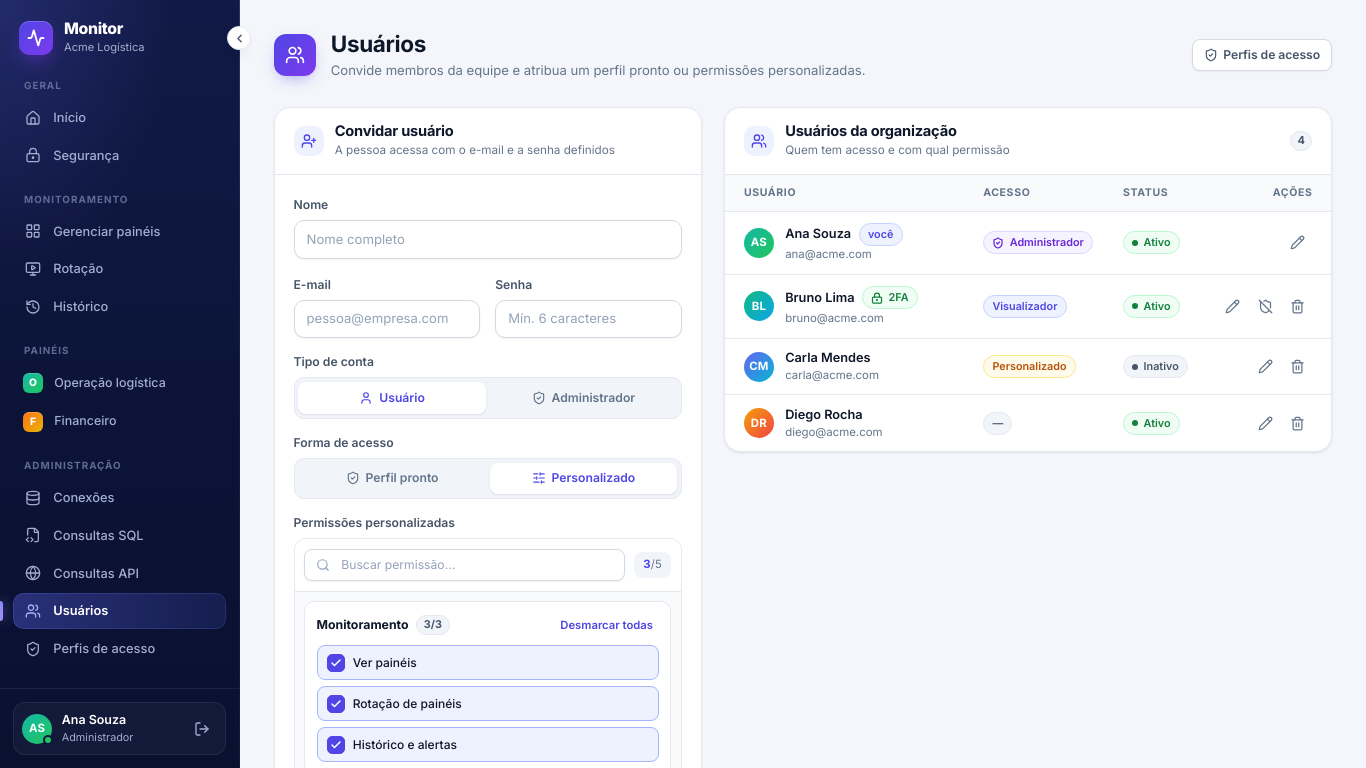
Test case: Usuários › convida administrador sem perfil nem permissões
The image size is (1366, 768).
Step 1. Type "Eva" into the field labelled "Nome" → point(488, 239), box x1=294 y1=220 x2=682 y2=258
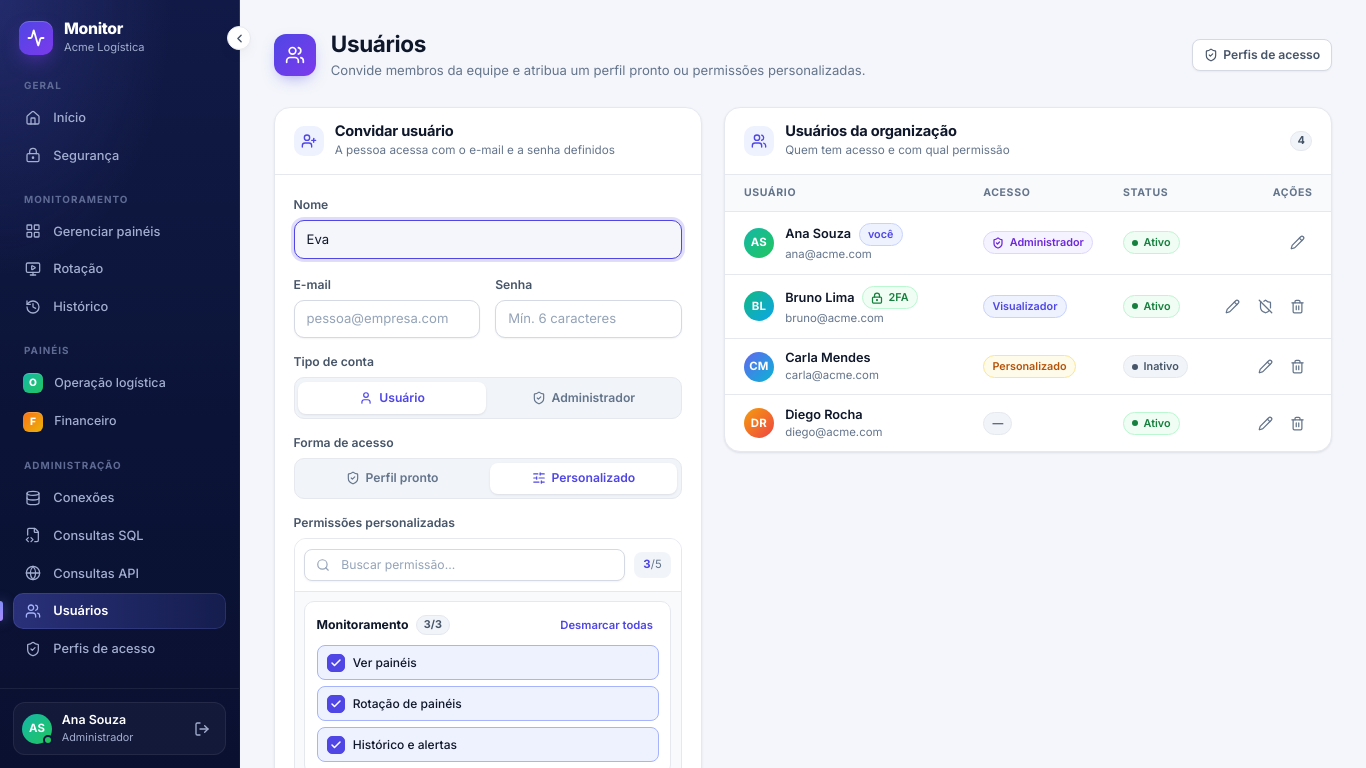
Step 2. Type "eva@acme.com" into the field labelled "E-mail" → point(387, 319), box x1=294 y1=300 x2=480 y2=338
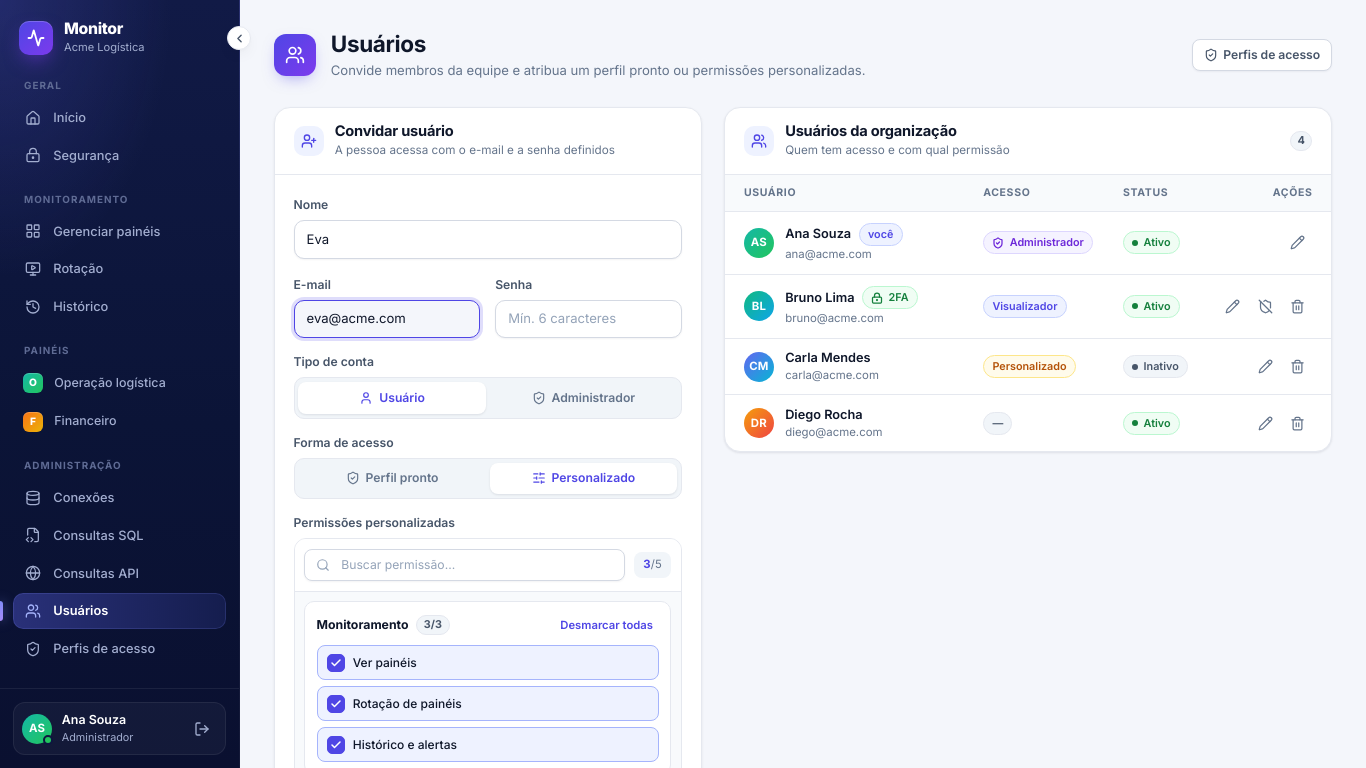
Step 3. Type "segredo1" into the password field labelled "Senha" → point(589, 319), box x1=495 y1=300 x2=682 y2=338
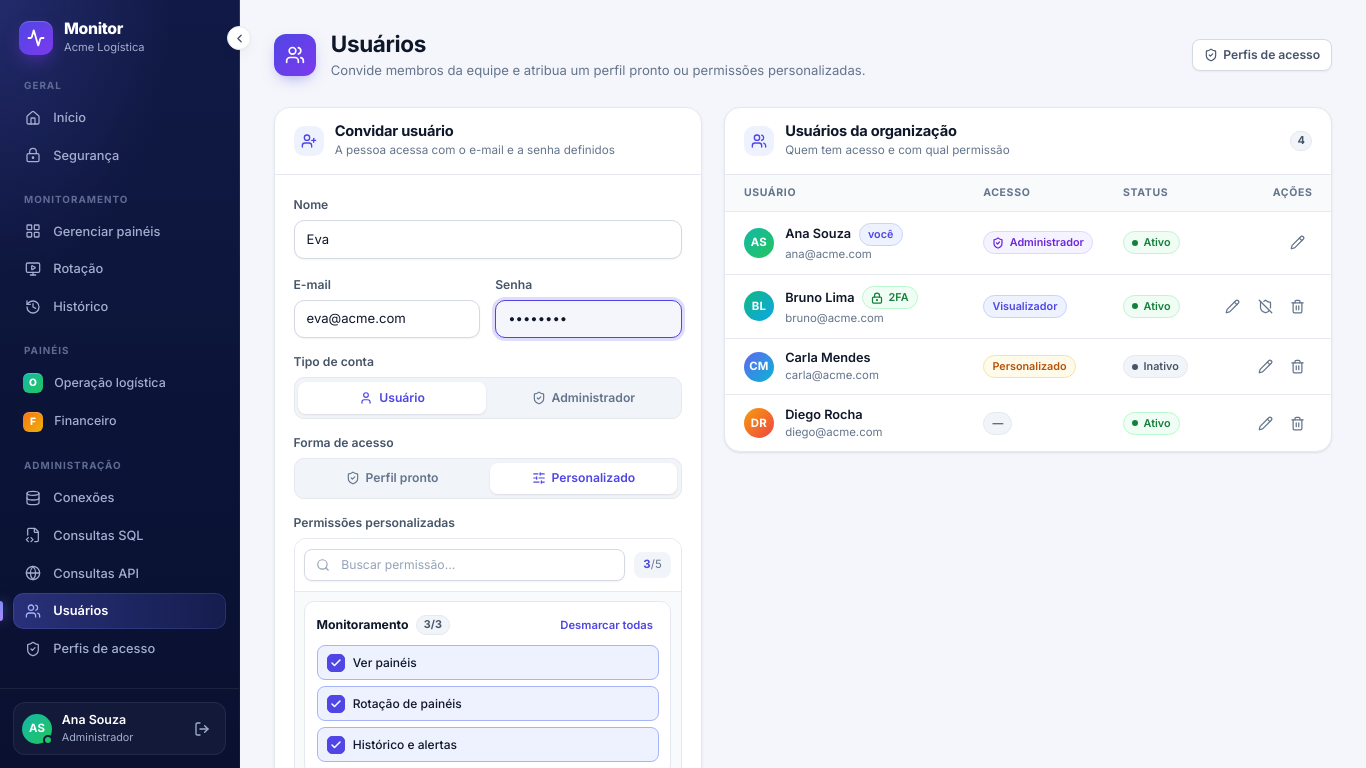
Step 4. Click the radio button labelled "Administrador" → point(583, 398), box x1=490 y1=382 x2=677 y2=414
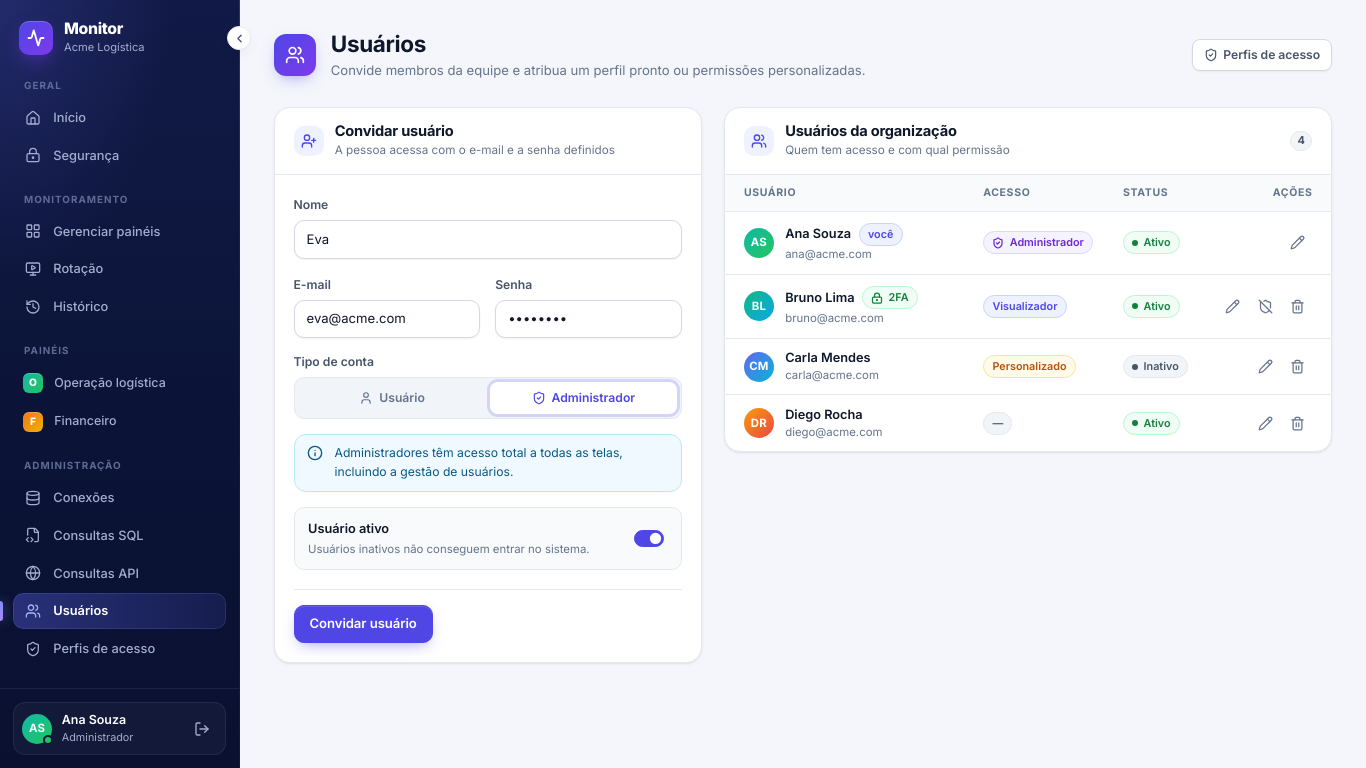
Now the text "Administradores têm acesso total" is shown, box x1=334 y1=445 x2=623 y2=479
Step 5. Click the button "Convidar usuário" → point(363, 624), box x1=294 y1=605 x2=433 y2=643
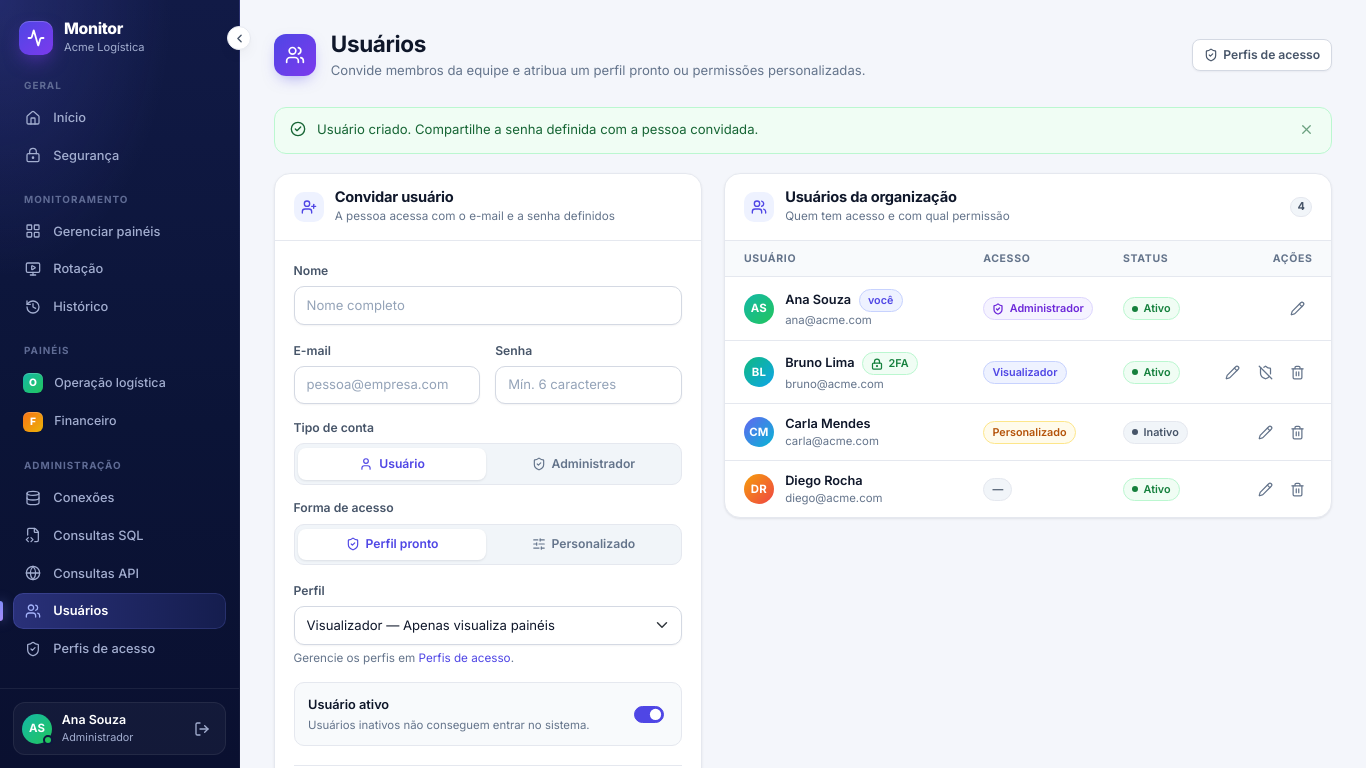
Now the text "Usuário criado" is shown, box x1=317 y1=121 x2=758 y2=137
